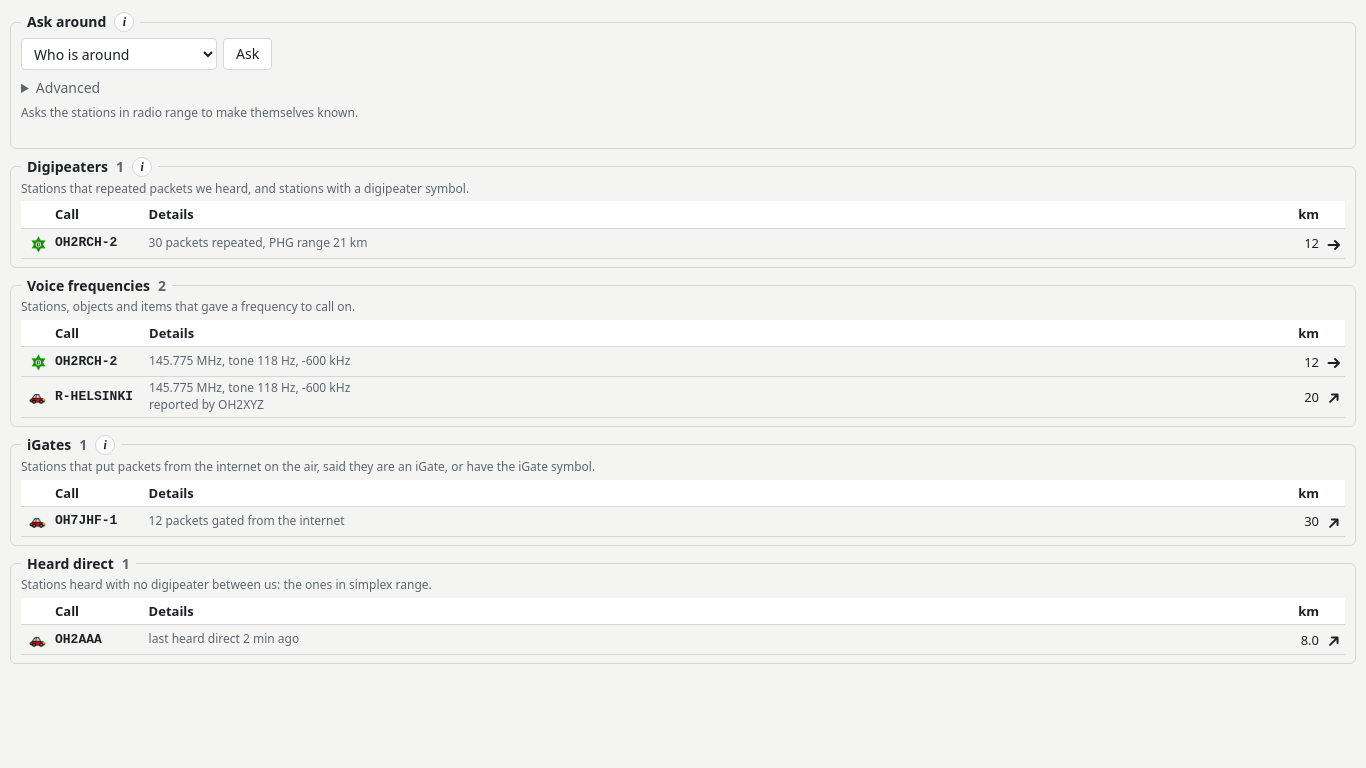
it: NearbyPane › has an (i) beside the Digipeaters heading that says what the range is, with a picture of a digipeater and its circle
Click the button with class "info-toggle" in the row of "Digipeaters". click: click(142, 167)
box: [132,157,152,177]
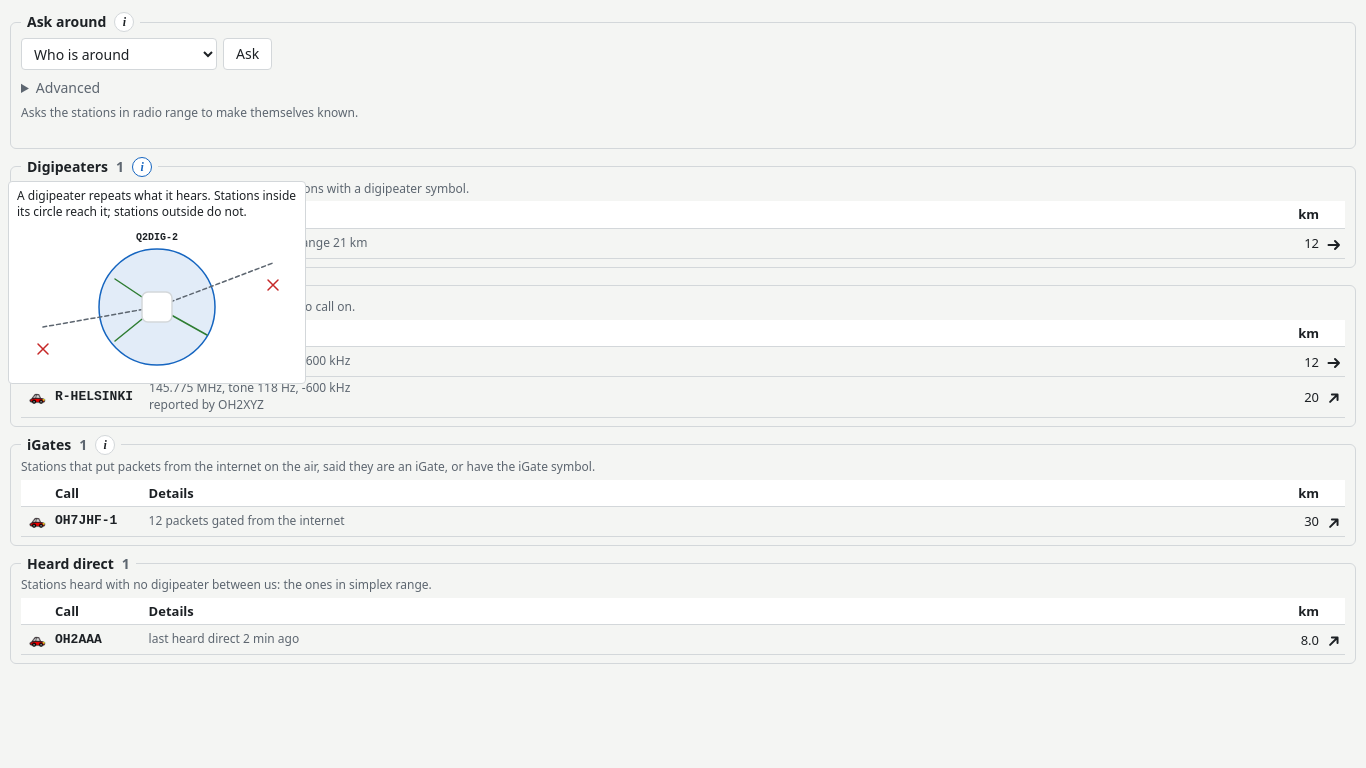
Expected: the element with class "info-text" shows "Stations inside its circle reach it; stations outside do not.", [17,187,296,220]
Click the button with class "info-toggle" in the row of "iGates". click: click(105, 445)
box: [95,435,115,455]
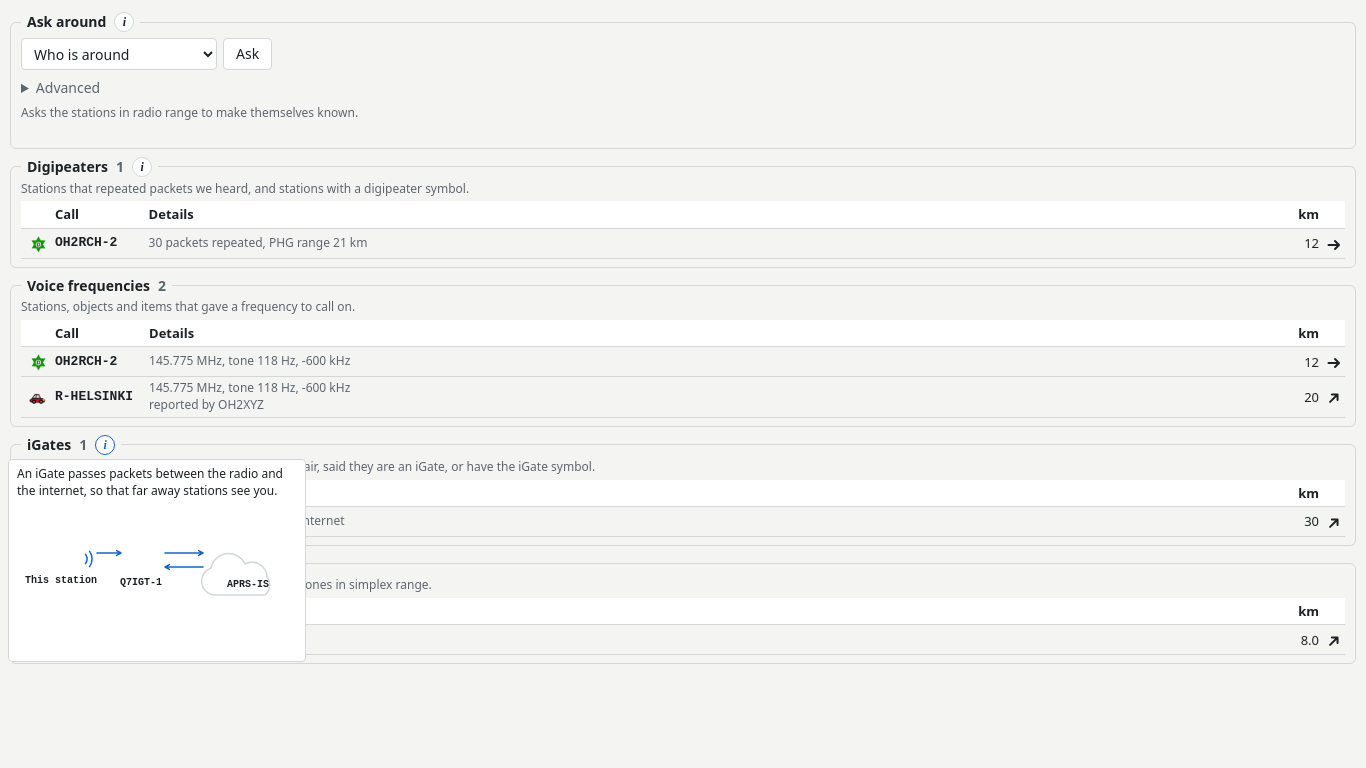
Expected: the element with class "info-text" shows "An iGate passes packets between the radio and the internet", [17,465,283,499]
